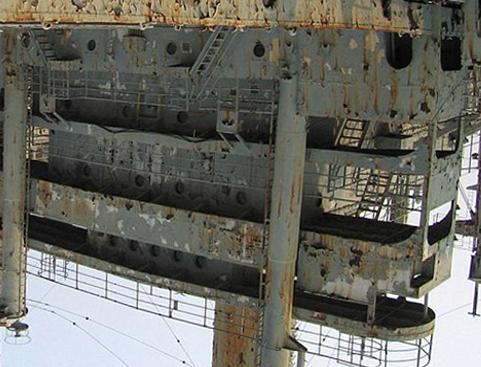rust: (1, 2, 429, 31), (298, 38, 377, 114), (274, 152, 302, 352), (212, 305, 261, 367), (319, 234, 377, 281), (388, 77, 441, 124), (209, 213, 262, 259), (34, 181, 59, 216)
